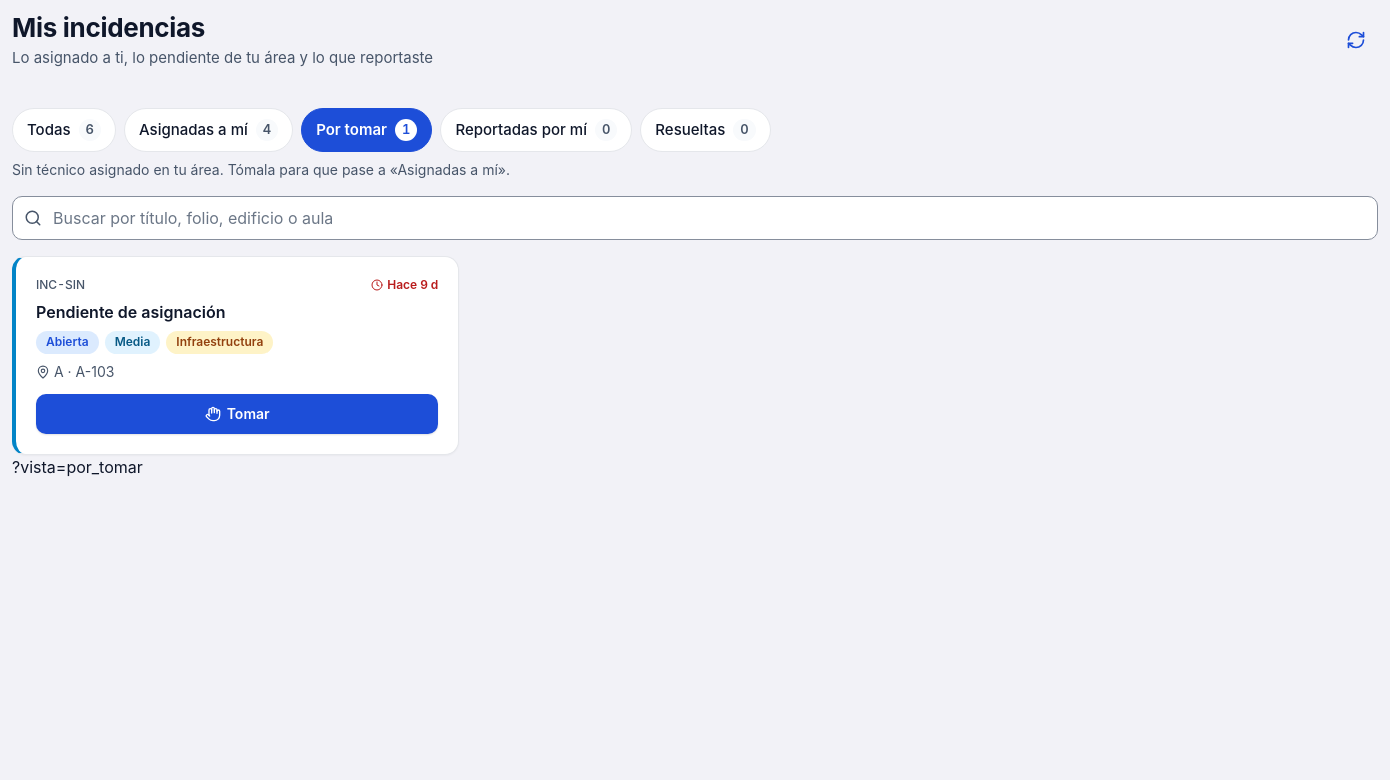
Test: Mis incidencias del técnico (T-050) › el técnico toma una incidencia sin asignar
Click the button with aria-label "Tomar INC-SIN" at (237,414), box [36,394,438,434]
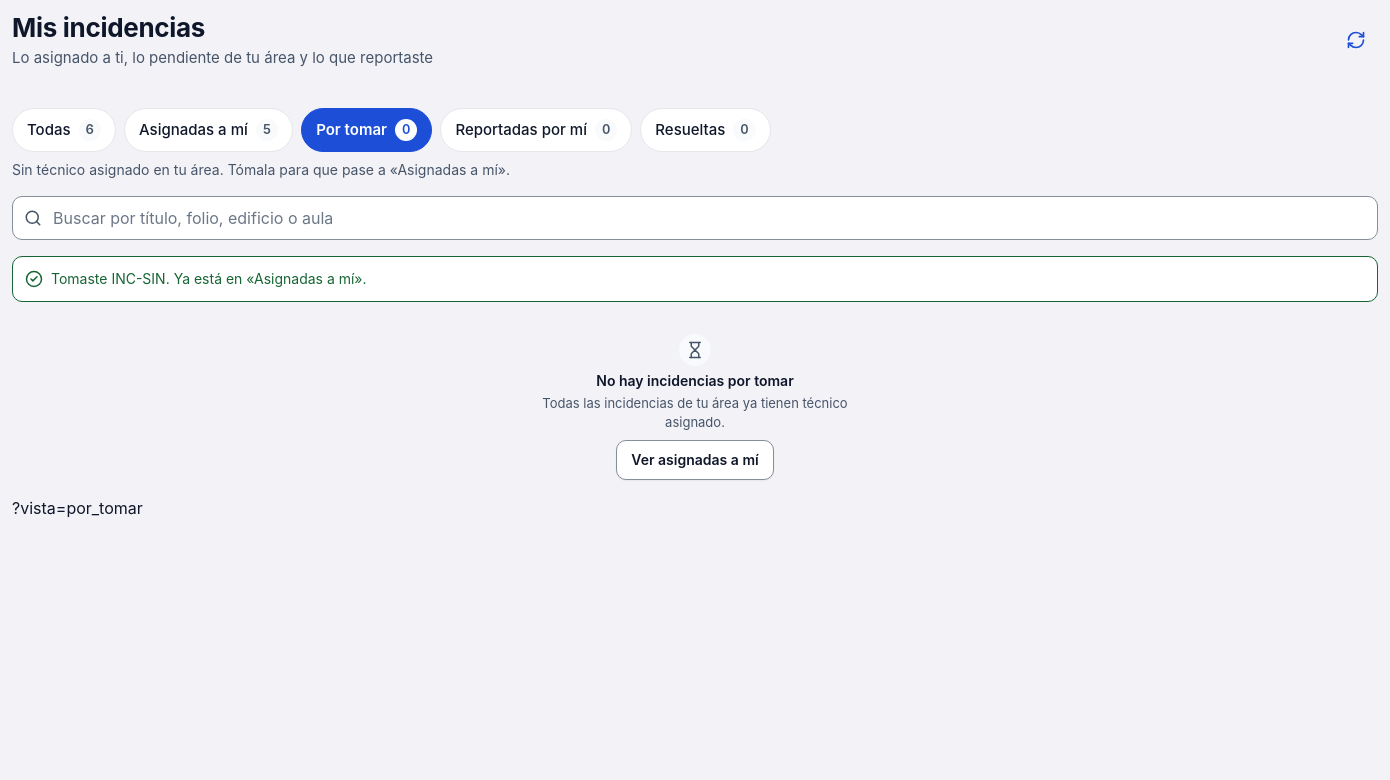
Expected: the text "Tomaste INC-SIN. Ya está en «Asignadas a mí»." is shown, [12,256,1378,302]
Expected: the heading "No hay incidencias por tomar" is shown, [596,372,794,390]
Click the radio button labelled "Asignadas a mí 5" at (209,130), box [124,108,293,152]
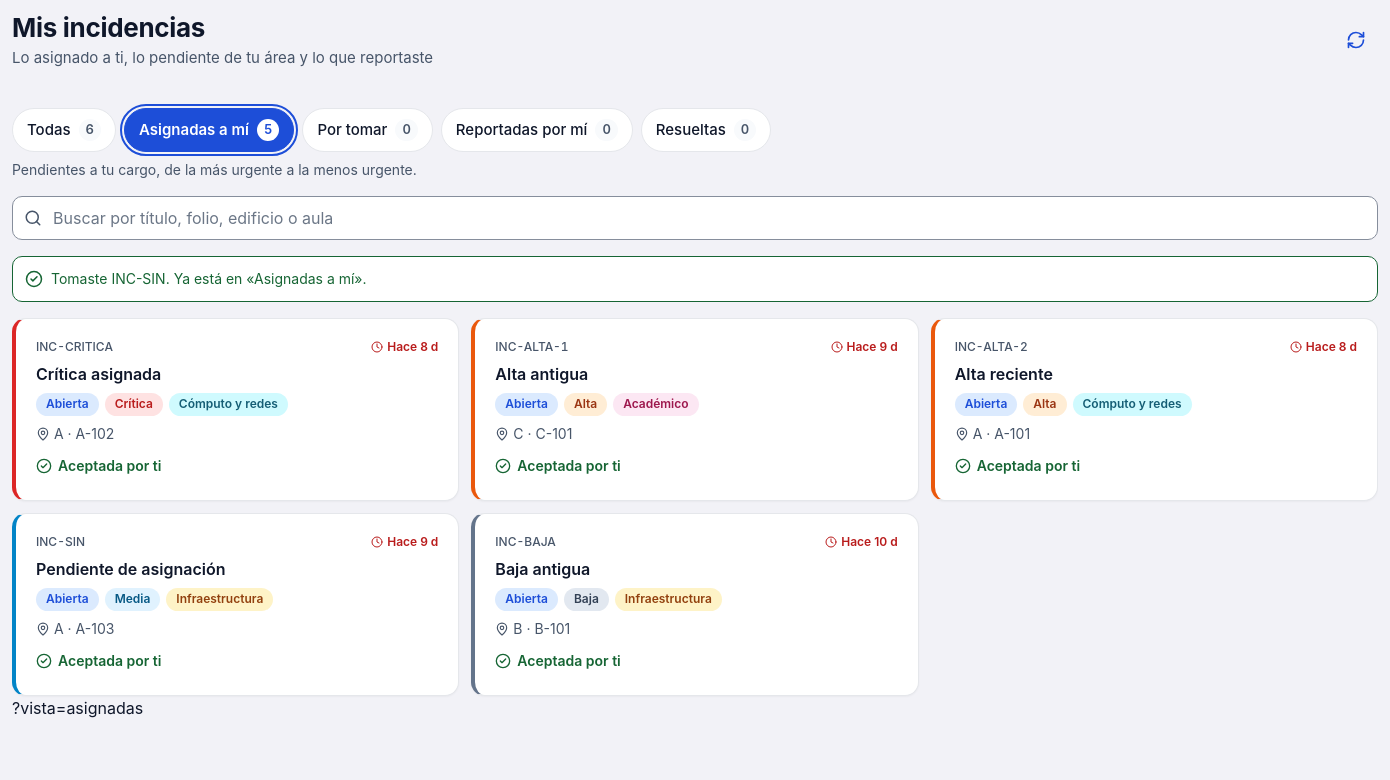
Expected: the link "Pendiente de asignación" is shown, [36,559,226,579]
